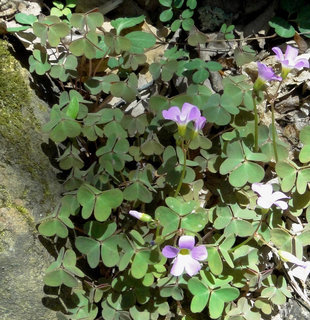oxalis: (31, 32, 310, 312)
